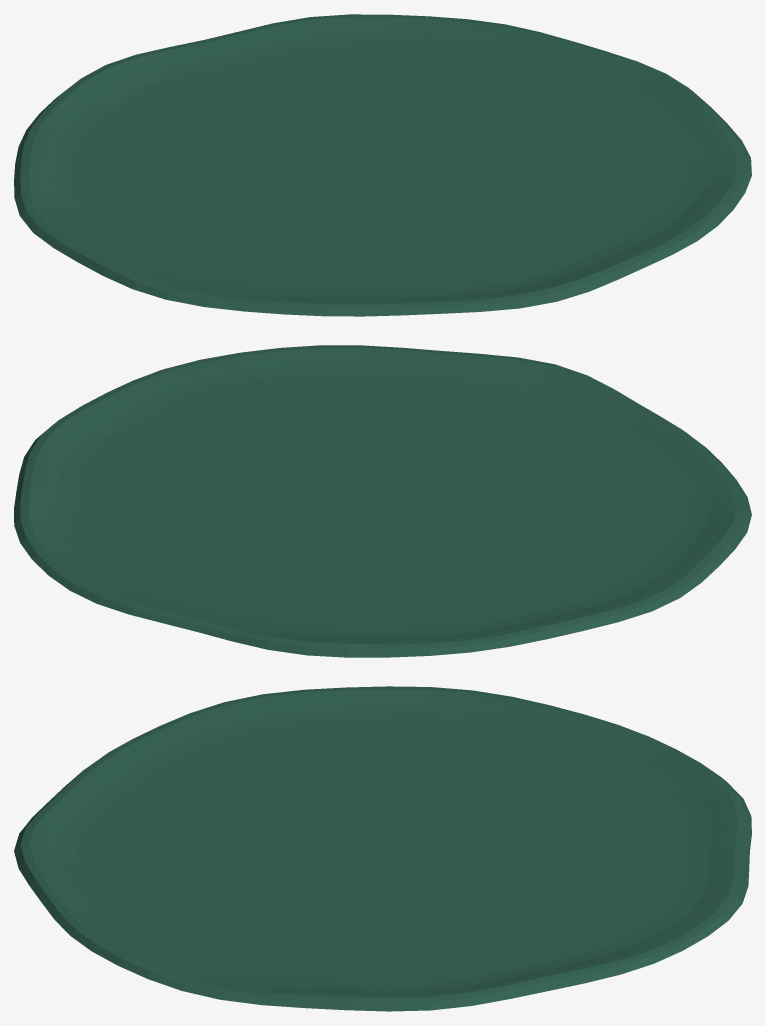
File: ClearingGround.fbx
The picture shows the model from 3 angles, top to bottom: view 1: azimuth 30°, elevation 25°; view 2: azimuth 150°, elevation 25°; view 3: azimuth 270°, elevation 25°; orthographic projection. The views are drawn at different scales.
Visible parts, largest first — view 1: ClearingGround; view 2: ClearingGround; view 3: ClearingGround.
Part boxes in pixels (x1=…): ClearingGround: x1=14, y1=14, x2=751, y2=316; ClearingGround: x1=14, y1=345, x2=751, y2=657; ClearingGround: x1=14, y1=686, x2=751, y2=1011.
Size of the model in its own units: 35.16 by 0.4619 by 33.93.
